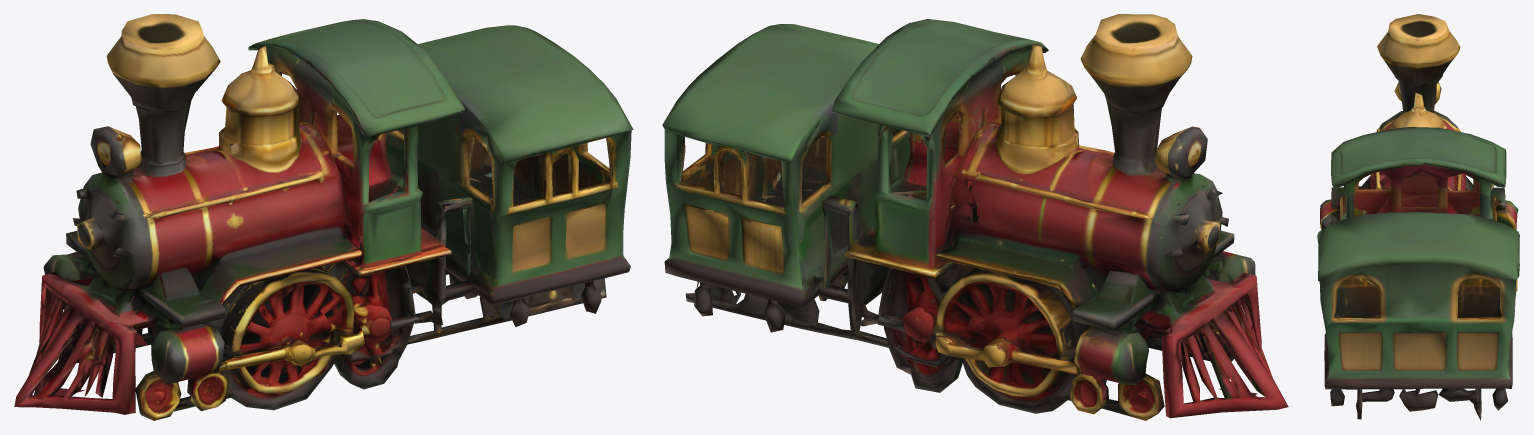
The model's file is train3D.glb.
3 renders of one model, left to right at view 1: azimuth 30°, elevation 25°; view 2: azimuth 150°, elevation 25°; view 3: azimuth 270°, elevation 25°, orthographic. The views are drawn at different scales.
Size of the model in its own units: 2.01 by 1.29 by 0.8612.
Materials: 1 (1 with a texture image).
